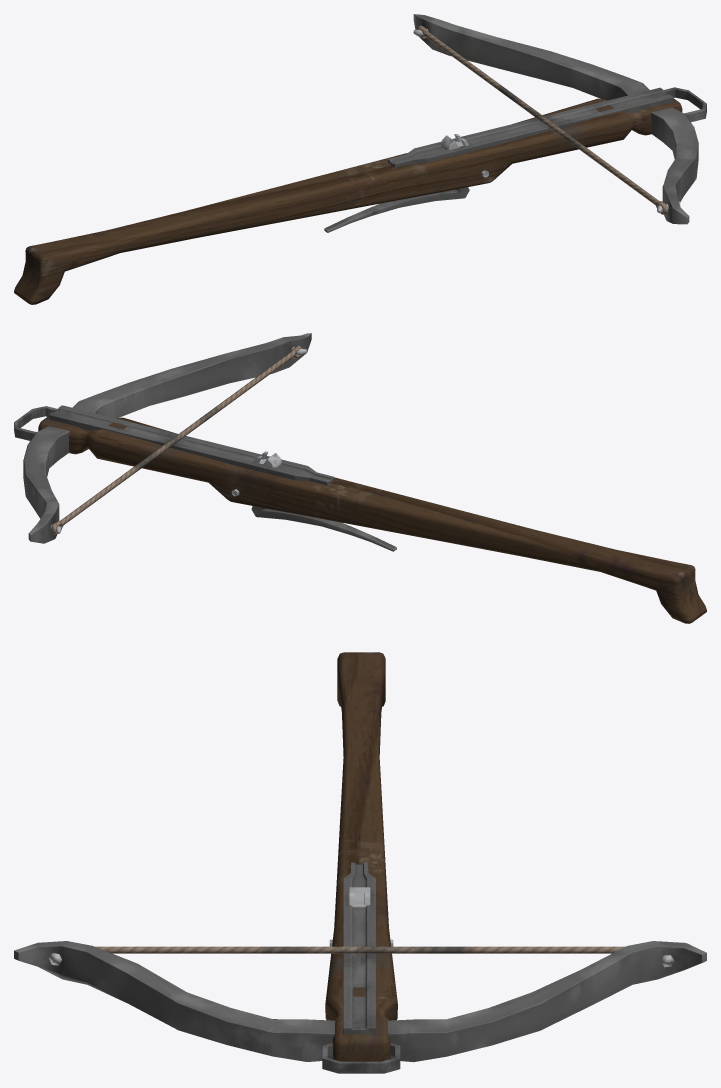
Rendered from light_crossbow.glb.
The picture shows the model from 3 angles, top to bottom: view 1: azimuth 30°, elevation 25°; view 2: azimuth 150°, elevation 25°; view 3: azimuth 270°, elevation 25°; orthographic projection. The views are drawn at different scales.
Parts seen in each view (by area): view 1: light_crossbow; view 2: light_crossbow; view 3: light_crossbow.
Boxes of the visible parts, <box> form: light_crossbow: <box>14,14,706,304</box>; light_crossbow: <box>14,333,706,623</box>; light_crossbow: <box>14,652,706,1073</box>.
Size of the model in its own units: 0.76 by 0.0748 by 0.5395.
1 material, 1 textured.
